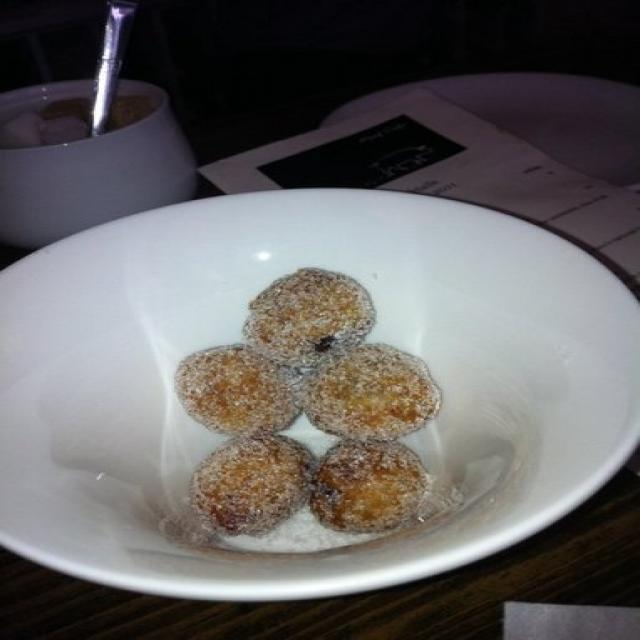Donuts: (174, 263, 438, 534)
